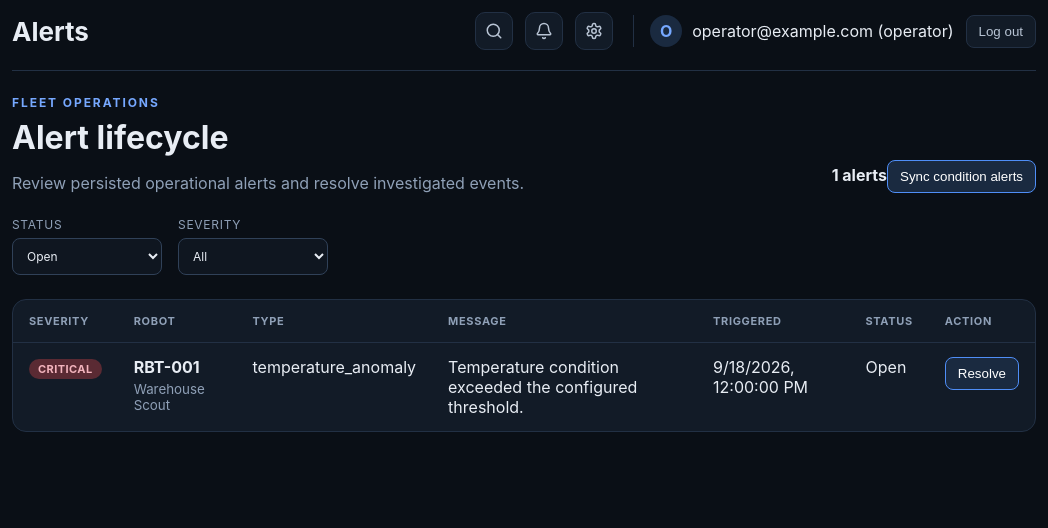
Test: Alerts page › allows operator to resolve an open alert
Click the button "Resolve". click: (982, 374)
box: [945, 357, 1019, 390]
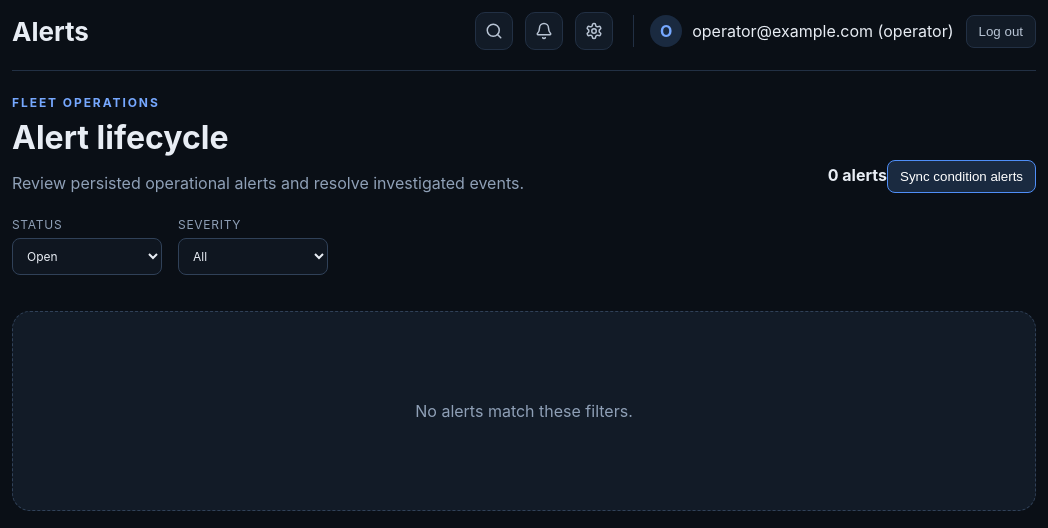
Result: the text "RBT-001" is gone
Result: the text "No alerts match these filters." is shown at [415, 401, 633, 421]
